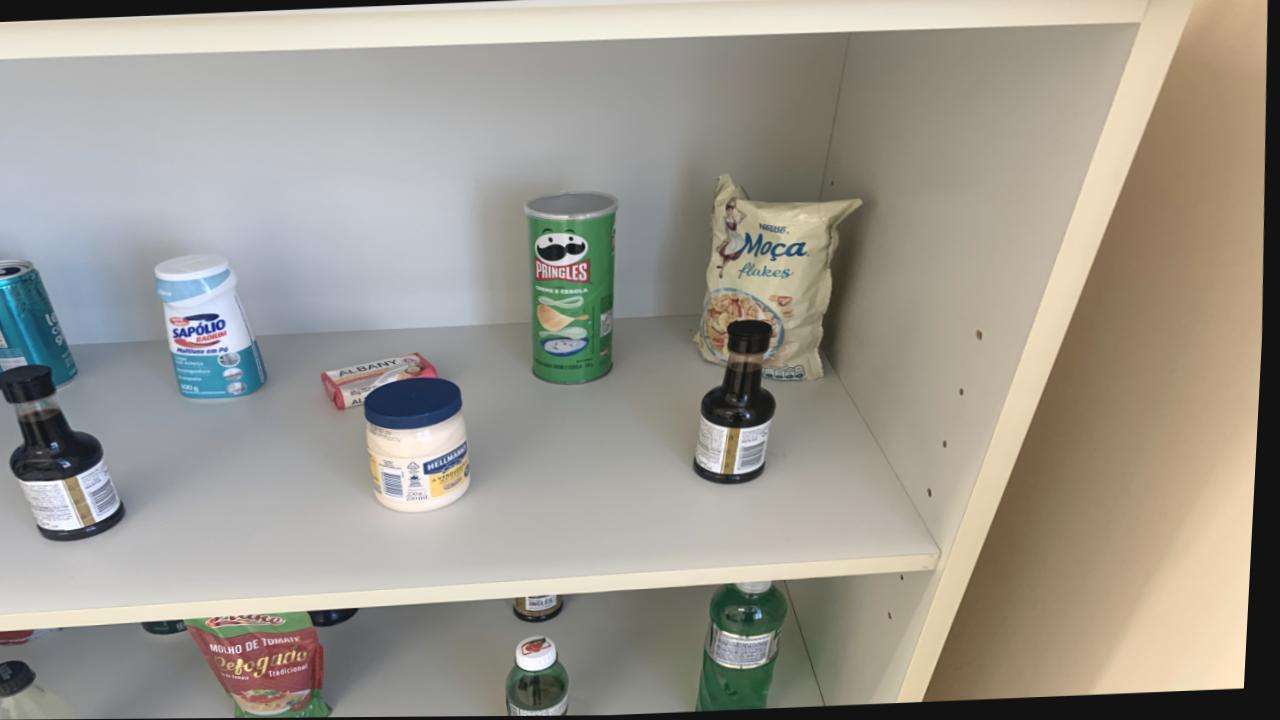Cleaner-Cleanup_Items: (158, 255, 270, 400)
Detergent-Cleanup_Items: (706, 582, 794, 712)
English_Sauce-Pantry_Items: (0, 365, 132, 540), (700, 321, 780, 485), (519, 595, 569, 624)
Flakes-Snacks: (698, 176, 864, 383)
Guarana-Drinks: (513, 637, 576, 717)
Mayonnaise-Pantry_Items: (367, 379, 475, 513)
Pringles-Snacks: (526, 192, 621, 385)
Soap-Cleanup_Items: (325, 353, 440, 409)
Soda-Drinks: (0, 660, 84, 720)
Tea-Drinks: (0, 259, 82, 387)
Tomato_Sauce-Pantry_Items: (191, 613, 338, 718)
